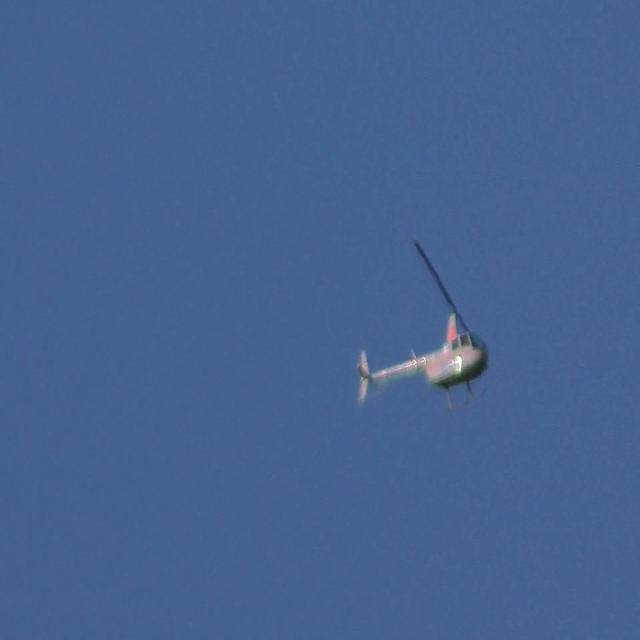CIV_HELO: (354, 310, 491, 418)
